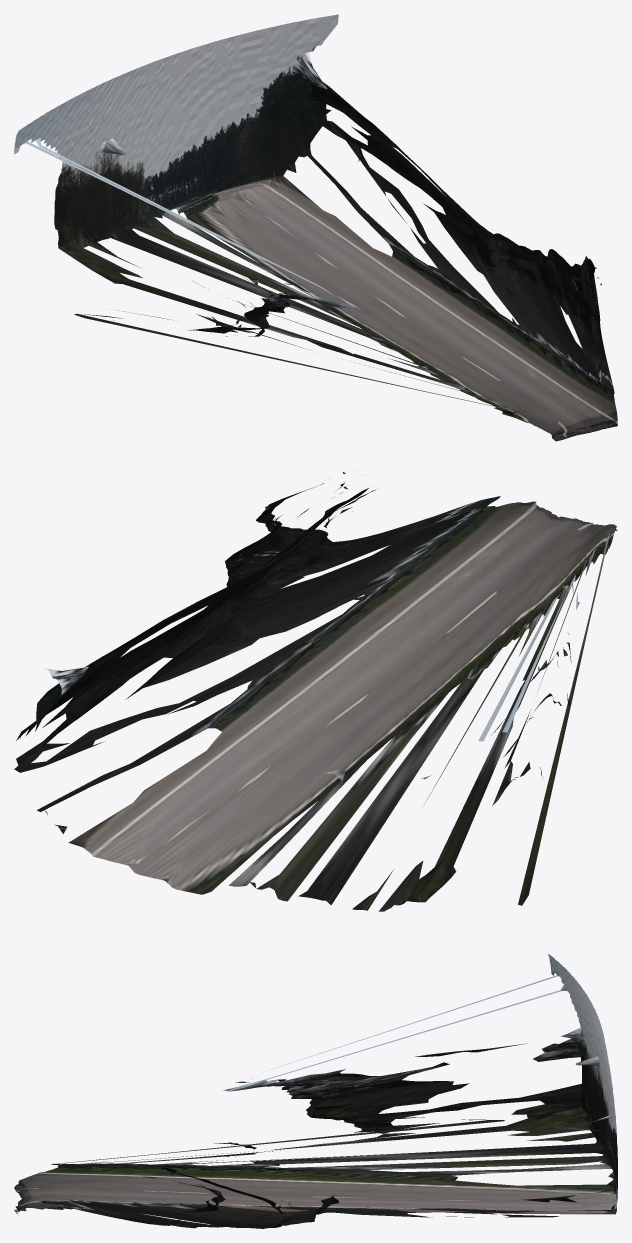
The picture shows the model from 3 angles, top to bottom: view 1: azimuth 30°, elevation 25°; view 2: azimuth 150°, elevation 25°; view 3: azimuth 270°, elevation 25°; orthographic projection. The views are drawn at different scales.
Visible parts, largest first — view 1: defaultobject; view 2: defaultobject; view 3: defaultobject.
Boxes of the visible parts, x1,y1,x2,y2 form: defaultobject: (14,14,617,441); defaultobject: (14,472,617,911); defaultobject: (14,954,617,1228).
Size of the model in its own units: 29.56 by 13.41 by 44.57.
1 material, 1 textured.
